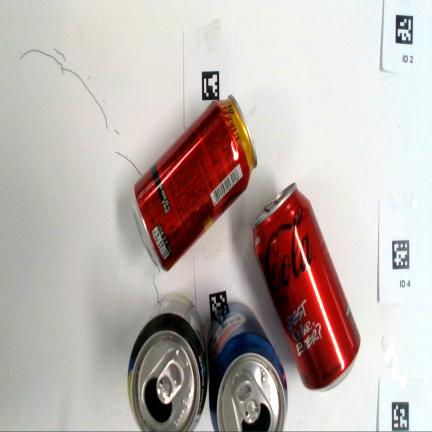can_coke_decaf: (133, 95, 257, 271)
can_coke_zero: (251, 183, 360, 389)
can_pepsi: (209, 303, 287, 432)
can_pepsi_zero: (128, 294, 207, 432)
